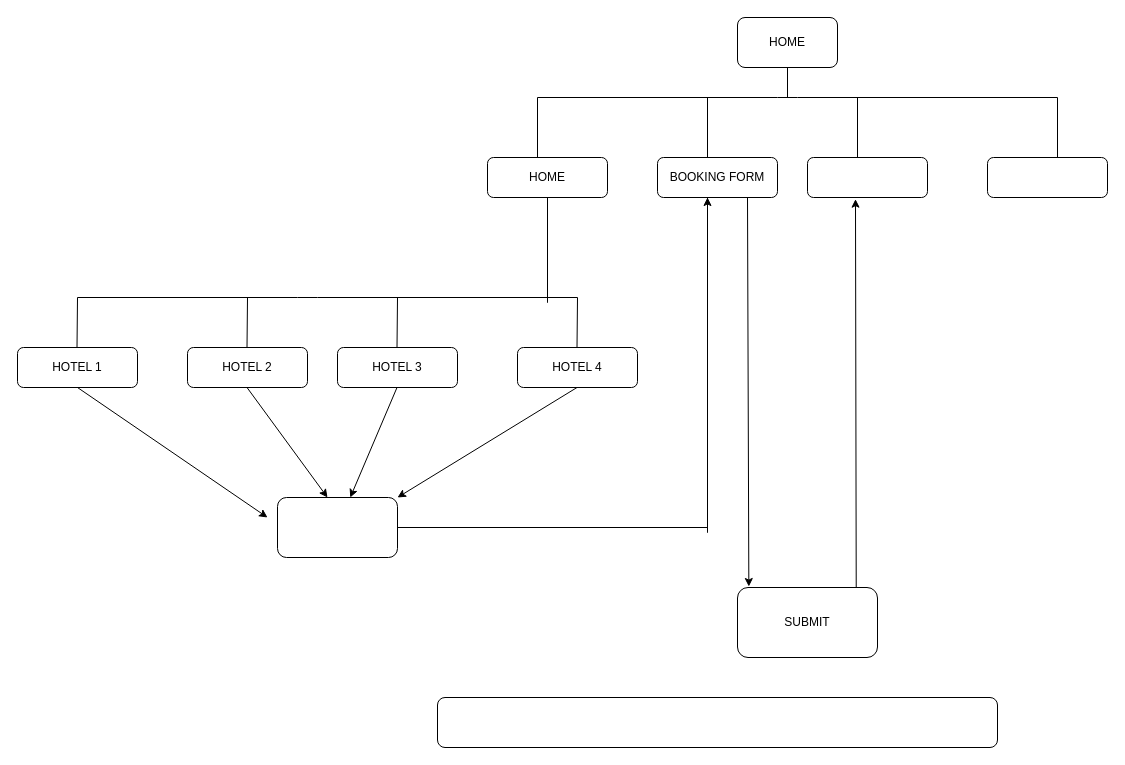
Some shapes in this 1125 by 765 pixel diagram are drawn without their labels. The shapes that lost their labels are listed below. From the top down, each one's centre as x and y in pixels, then its label:
At (x=867, y=177): "BOOKING DETAILS".
At (x=1047, y=177): "ABOUT US".
At (x=337, y=527): "BOOK FORM".
At (x=717, y=722): "ALL PAGES WILL BE ACCESSIBLE FROM ALL THE SCREENS".
